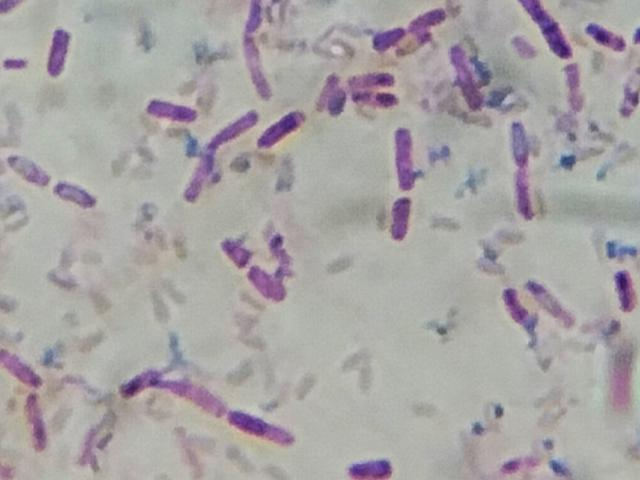E. coli: (522, 2, 574, 64), (230, 408, 298, 446), (167, 378, 226, 416), (208, 111, 263, 146), (452, 46, 483, 108), (394, 126, 422, 192), (2, 344, 46, 384), (7, 148, 51, 186), (185, 148, 215, 199), (260, 106, 300, 144), (584, 19, 623, 56), (149, 95, 196, 124), (23, 395, 49, 447), (528, 275, 562, 314), (56, 172, 91, 208), (47, 22, 69, 78), (249, 265, 281, 302), (242, 1, 266, 50), (518, 172, 540, 221), (246, 64, 275, 100), (510, 117, 533, 162), (349, 454, 388, 480), (354, 89, 400, 111), (126, 366, 160, 395), (219, 238, 250, 269), (617, 262, 637, 310), (393, 198, 414, 242), (345, 71, 394, 89), (410, 9, 450, 31), (374, 22, 401, 49), (504, 286, 523, 322), (320, 66, 335, 110), (330, 91, 344, 120)
